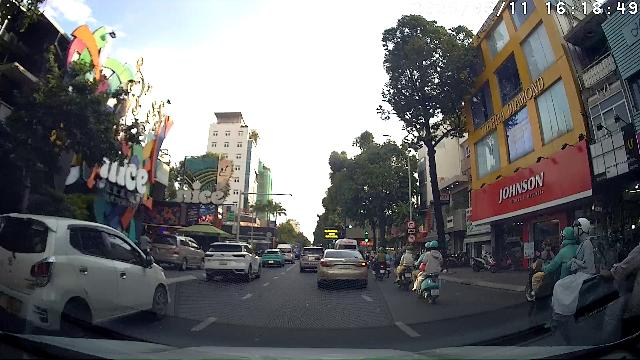123a-cam-re-trai: (408, 234, 417, 242)
123b-cam-re-phai: (406, 220, 416, 228)
